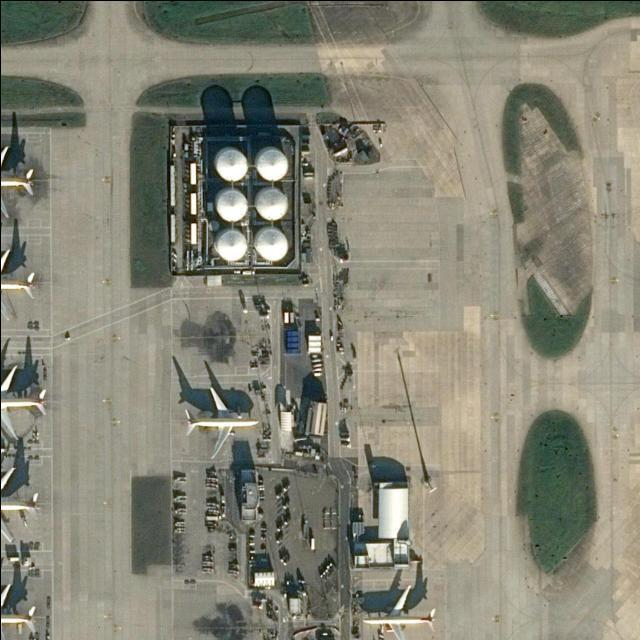Aircraft: (182, 384, 258, 458), (182, 385, 258, 455), (360, 582, 436, 640), (360, 582, 434, 640), (0, 361, 46, 438), (0, 363, 46, 439), (0, 464, 37, 544), (0, 465, 39, 540), (0, 246, 36, 319), (0, 144, 35, 216), (0, 245, 34, 319), (0, 144, 32, 214), (0, 581, 37, 640), (0, 580, 36, 640)
